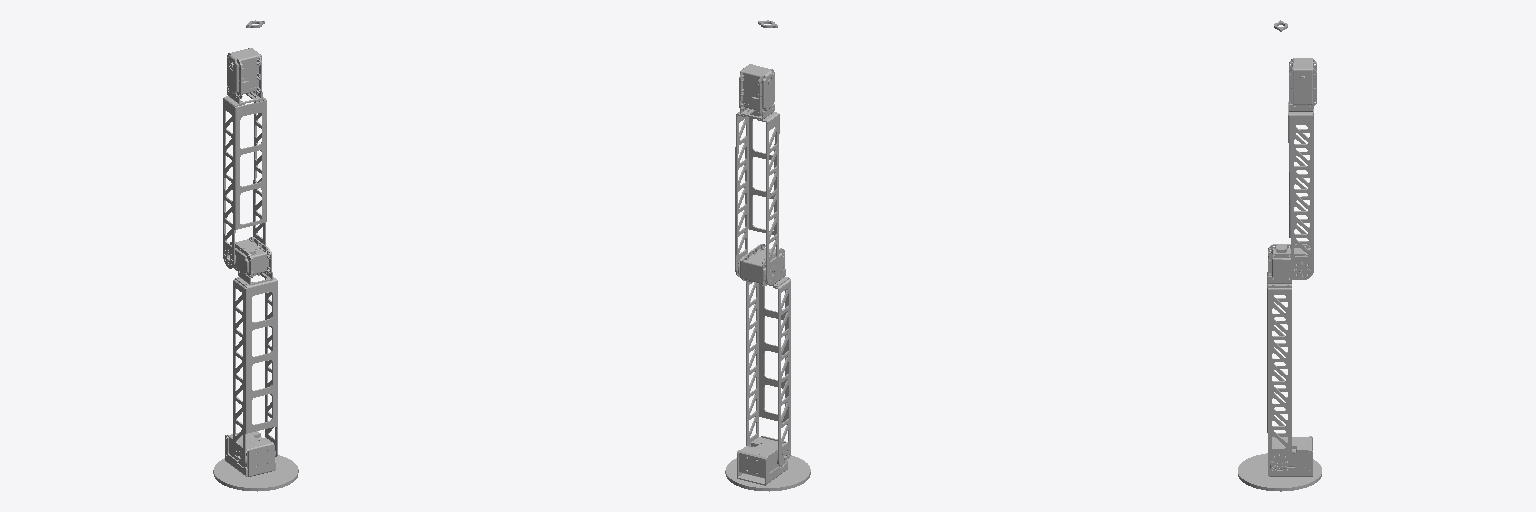
robot.urdf — manipulator:
<?xml version="1.0" encoding="utf-8"?>
<!-- This URDF was automatically created by SolidWorks to URDF Exporter! Originally created by [author] ([email redacted]) 
     Commit Version: 1.6.0-1-g15f4949  Build Version: 1.6.7594.29634
     For more information, please see http://wiki.ros.org/sw_urdf_exporter -->
<robot
  name="manipulator">
  <link
    name="base_link">
    <inertial>
      <origin
        xyz="-0.000389253363450158 -2.22107228316211E-08 0.0190986509331325"
        rpy="0 0 0" />
      <mass
        value="0.998884052409043" />
      <inertia
        ixx="0.00153555230282343"
        ixy="-5.26477667411161E-08"
        ixz="5.27833756567881E-06"
        iyy="0.0020826749681085"
        iyz="7.83294080103356E-10"
        izz="0.0033613800402648" />
    </inertial>
    <visual>
      <origin
        xyz="0 0 0"
        rpy="0 0 0" />
      <geometry>
        <mesh
          filename="package://robot_description/meshes/base_link.STL" />
      </geometry>
      <material
        name="">
        <color
          rgba="0.752941176470588 0.752941176470588 0.752941176470588 1" />
      </material>
    </visual>
    <collision>
      <origin
        xyz="0 0 0"
        rpy="0 0 0" />
      <geometry>
        <mesh
          filename="package://robot_description/meshes/base_link.STL" />
      </geometry>
    </collision>
  </link>
  <link
    name="link_1">
    <inertial>
      <origin
        xyz="-0.00031030880564265 0.00858811851828671 0.0175565041510017"
        rpy="0 0 0" />
      <mass
        value="0.185821769445055" />
      <inertia
        ixx="0.000114508954668787"
        ixy="-1.61883570331381E-07"
        ixz="8.34624055343117E-14"
        iyy="9.70669043908046E-05"
        iyz="2.45858972240209E-06"
        izz="0.000186683444251279" />
    </inertial>
    <visual>
      <origin
        xyz="0 0 0"
        rpy="0 0 0" />
      <geometry>
        <mesh
          filename="package://robot_description/meshes/link_1.STL" />
      </geometry>
      <material
        name="">
        <color
          rgba="0.752941176470588 0.752941176470588 0.752941176470588 1" />
      </material>
    </visual>
    <collision>
      <origin
        xyz="0 0 0"
        rpy="0 0 0" />
      <geometry>
        <mesh
          filename="package://robot_description/meshes/link_1.STL" />
      </geometry>
    </collision>
  </link>
  <joint
    name="joint_1"
    type="continuous">
    <origin
      xyz="0 0 0.0465"
      rpy="0 0 -0.003602" />
    <parent
      link="base_link" />
    <child
      link="link_1" />
    <axis
      xyz="0 0 1" />
  </joint>
  <link
    name="link_2">
    <inertial>
      <origin
        xyz="0.214940656225411 -0.00302610888444859 -0.000524095480016116"
        rpy="0 0 0" />
      <mass
        value="0.177693654848771" />
      <inertia
        ixx="0.000101230360035866"
        ixy="-6.59102546085614E-06"
        ixz="-1.97978692210085E-13"
        iyy="0.000776536430152929"
        iyz="3.16142089929914E-07"
        izz="0.000744380292404554" />
    </inertial>
    <visual>
      <origin
        xyz="0 0 0"
        rpy="0 0 0" />
      <geometry>
        <mesh
          filename="package://robot_description/meshes/link_2.STL" />
      </geometry>
      <material
        name="">
        <color
          rgba="0.752941176470588 0.752941176470588 0.752941176470588 1" />
      </material>
    </visual>
    <collision>
      <origin
        xyz="0 0 0"
        rpy="0 0 0" />
      <geometry>
        <mesh
          filename="package://robot_description/meshes/link_2.STL" />
      </geometry>
    </collision>
  </link>
  <joint
    name="joint_2"
    type="revolute">
    <origin
      xyz="0 0 0.0305"
      rpy="3.1416 -1.5708 0" />
    <parent
      link="link_1" />
    <child
      link="link_2" />
    <axis
      xyz="0 0 -1" />
    <limit
      lower="-0.8"
      upper="1.7"
      effort="0"
      velocity="0" />
  </joint>
  <link
    name="link_3">
    <inertial>
      <origin
        xyz="0.197497508435358 0.00242647613318699 -0.000695439790085717"
        rpy="0 0 0" />
      <mass
        value="0.165504845537909" />
      <inertia
        ixx="7.71736334227953E-05"
        ixy="-1.14123152510865E-05"
        ixz="-3.16141783398318E-07"
        iyy="0.000606239282129823"
        iyz="-1.20363410206295E-09"
        izz="0.000568330445759073" />
    </inertial>
    <visual>
      <origin
        xyz="0 0 0"
        rpy="0 0 0" />
      <geometry>
        <mesh
          filename="package://robot_description/meshes/link_3.STL" />
      </geometry>
      <material
        name="">
        <color
          rgba="0.752941176470588 0.752941176470588 0.752941176470588 1" />
      </material>
    </visual>
    <collision>
      <origin
        xyz="0 0 0"
        rpy="0 0 0" />
      <geometry>
        <mesh
          filename="package://robot_description/meshes/link_3.STL" />
      </geometry>
    </collision>
  </link>
  <joint
    name="joint_3"
    type="revolute">
    <origin
      xyz="0.2992 -0.0316 0"
      rpy="0 0 0" />
    <parent
      link="link_2" />
    <child
      link="link_3" />
    <axis
      xyz="0 0 -1" />
    <limit
      lower="-0.6"
      upper="2.95"
      effort="0"
      velocity="0" />
  </joint>
  <link
    name="link_4">
    <inertial>
      <origin
        xyz="0.0433079332622105 0.0179483567578146 -0.000332863244781619"
        rpy="0 0 0" />
      <mass
        value="0.0881895702260829" />
      <inertia
        ixx="3.69742495119384E-05"
        ixy="-1.88523373751598E-06"
        ixz="-1.49720289687486E-09"
        iyy="2.80669267703083E-05"
        iyz="1.03142420121299E-08"
        izz="2.67957172555677E-05" />
    </inertial>
    <visual>
      <origin
        xyz="0 0 0"
        rpy="0 0 0" />
      <geometry>
        <mesh
          filename="package://robot_description/meshes/link_4.STL" />
      </geometry>
      <material
        name="">
        <color
          rgba="0.752941176470588 0.752941176470588 0.752941176470588 1" />
      </material>
    </visual>
    <collision>
      <origin
        xyz="0 0 0"
        rpy="0 0 0" />
      <geometry>
        <mesh
          filename="package://robot_description/meshes/link_4.STL" />
      </geometry>
    </collision>
  </link>
  <joint
    name="joint_4"
    type="revolute">
    <origin
      xyz="0.2967 -0.00185 0"
      rpy="0 0 0" />
    <parent
      link="link_3" />
    <child
      link="link_4" />
    <axis
      xyz="0 0 1" />
    <limit
      lower="-2"
      upper="1.75"
      effort="0"
      velocity="0" />
  </joint>
  <link
    name="end_effector">
    <inertial>
      <origin
        xyz="-2.58402023736726E-13 8.91963369484272E-14 0.00153480871595302"
        rpy="0 0 0" />
      <mass
        value="0.00087155581094016" />
      <inertia
        ixx="4.81778179564309E-08"
        ixy="1.40775800498868E-22"
        ixz="8.54751513362795E-24"
        iyy="2.53018532990969E-08"
        iyz="2.36132539112655E-22"
        izz="7.21542244154594E-08" />
    </inertial>
    <visual>
      <origin
        xyz="0 0 0"
        rpy="0 0 0" />
      <geometry>
        <mesh
          filename="package://robot_description/meshes/end_effector.STL" />
      </geometry>
      <material
        name="">
        <color
          rgba="0.698039215686274 0.698039215686274 0.698039215686274 1" />
      </material>
    </visual>
    <collision>
      <origin
        xyz="0 0 0"
        rpy="0 0 0" />
      <geometry>
        <mesh
          filename="package://robot_description/meshes/end_effector.STL" />
      </geometry>
    </collision>
  </link>
  <joint
    name="end_effector"
    type="revolute">
    <origin
      xyz="0.070005 0.032129 -0.0004"
      rpy="1.5708 -0.039089 1.5708" />
    <parent
      link="link_4" />
    <child
      link="end_effector" />
    <axis
      xyz="0 0 1" />
    <limit
      lower="0"
      upper="3.14"
      effort="0"
      velocity="0" />
  </joint>
</robot>

--- What the picture shows (computed from the rendered views, not written in the file) ---
The picture shows the robot from 3 angles, left to right: view 1: azimuth 30°, elevation 25°; view 2: azimuth 150°, elevation 25°; view 3: azimuth 270°, elevation 25°; orthographic projection.
Model manipulator with 6 links and 5 joints (4 revolute, 1 continuous), rooted at base_link, posed all joints at 0.
Links seen in each view (by area): view 1: link_2, link_3, link_1; view 2: link_2, link_3, link_1; view 3: link_3, link_2, link_1.
Boxes of the visible links, box(x1,y1,x2,y2) form: link_2: box(230, 237, 277, 464); link_3: box(223, 48, 266, 268); link_1: box(213, 431, 298, 491); link_2: box(740, 244, 790, 464); link_3: box(735, 64, 779, 284); link_1: box(725, 436, 810, 491); link_3: box(1288, 58, 1316, 279); link_2: box(1267, 244, 1310, 465); link_1: box(1238, 436, 1321, 491).
Size in the robot's own frame: 0.1199 by 0.12 by 0.6994 metres.
Meshes: 6 distinct files referenced, 4 mesh visuals loaded (4 binary STL); not drawn: 2 (reference not matched to a file when rendering).